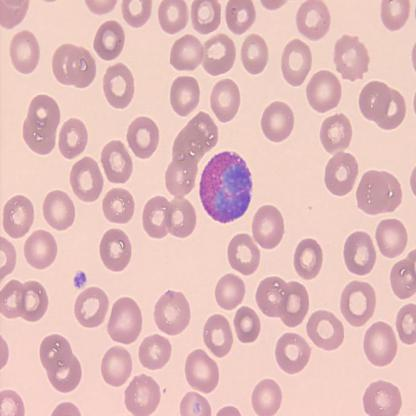Eosinophil: (199, 151, 253, 223)
